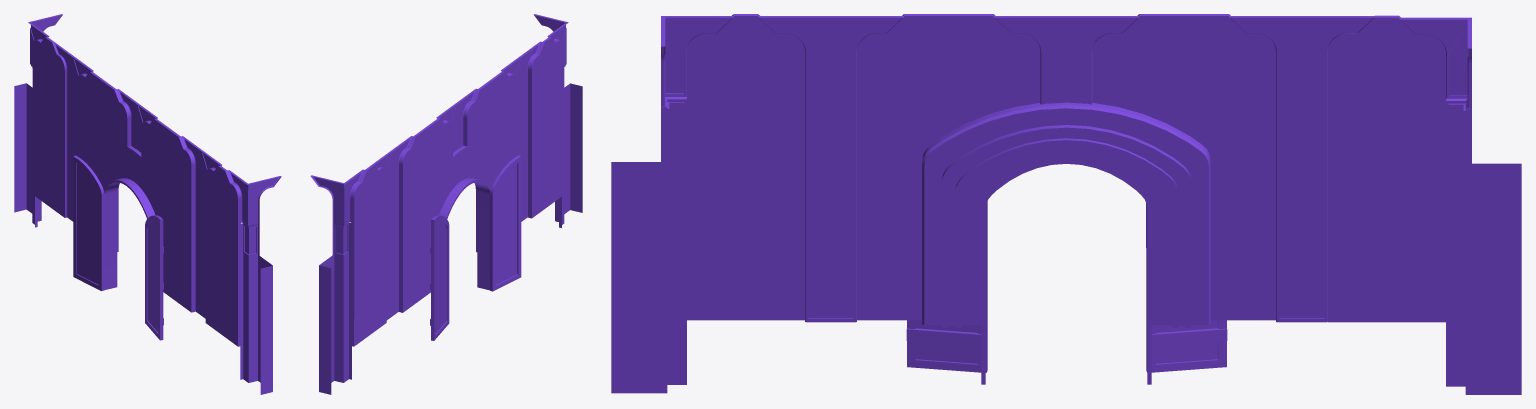
The model's file is FBX_Transition.fbx.
3 views of the same model, side by side, from view 1: azimuth 30°, elevation 25°; view 2: azimuth 150°, elevation 25°; view 3: azimuth 270°, elevation 25° (orthographic). The views are drawn at different scales.
Visible parts, largest first — view 1: SM_Cour_Atlas_2_14, SM_Cour_Atlas_2_13, SM_Cour_Atlas_2_07, SM_Cour_Atlas_2_11, SM_Cour_Atlas_2_08, SM_Cour_Atlas_2_02, SM_Cour_Atlas_2_05, SM_Cour_Atlas_2_09, SM_Cour_Atlas_2_12, SM_Cour_Atlas_2_10, SM_Cour_Atlas_2_06, SM_Cour_Atlas_2_03 (+1 smaller); view 2: SM_Cour_Atlas_2_09, SM_Cour_Atlas_2_13, SM_Cour_Atlas_2_07, SM_Cour_Atlas_2_05, SM_Cour_Atlas_2_10, SM_Cour_Atlas_2_02, SM_Cour_Atlas_2_11, SM_Cour_Atlas_2_14, SM_Cour_Atlas_2_06, SM_Cour_Atlas_2_08, SM_Cour_Atlas_2_12, SM_Cour_Atlas_2_03 (+1 smaller); view 3: SM_Cour_Atlas_2_02, SM_Cour_Atlas_2_07, SM_Cour_Atlas_2_13, SM_Cour_Atlas_2_05, SM_Cour_Atlas_2_11, SM_Cour_Atlas_2_09, SM_Cour_Atlas_2_14, SM_Cour_Atlas_2_06, SM_Cour_Atlas_2_12, SM_Cour_Atlas_2_04, SM_Cour_Atlas_2_10, SM_Cour_Atlas_2_08 (+1 smaller).
Part boxes in pixels (x1,y1,x2,y2): SM_Cour_Atlas_2_14: [227, 170, 281, 394]; SM_Cour_Atlas_2_13: [205, 165, 240, 346]; SM_Cour_Atlas_2_07: [32, 37, 66, 217]; SM_Cour_Atlas_2_11: [141, 118, 193, 312]; SM_Cour_Atlas_2_08: [73, 155, 104, 291]; SM_Cour_Atlas_2_02: [94, 142, 173, 299]; SM_Cour_Atlas_2_05: [77, 71, 129, 172]; SM_Cour_Atlas_2_09: [14, 14, 62, 227]; SM_Cour_Atlas_2_12: [181, 136, 221, 318]; SM_Cour_Atlas_2_10: [145, 215, 163, 340]; SM_Cour_Atlas_2_06: [53, 42, 93, 221]; SM_Cour_Atlas_2_03: [103, 178, 155, 290]; SM_Cour_Atlas_2_09: [310, 169, 364, 394]; SM_Cour_Atlas_2_13: [529, 37, 564, 218]; SM_Cour_Atlas_2_07: [352, 165, 386, 346]; SM_Cour_Atlas_2_05: [400, 118, 452, 312]; SM_Cour_Atlas_2_10: [489, 155, 521, 291]; SM_Cour_Atlas_2_02: [420, 142, 499, 299]; SM_Cour_Atlas_2_11: [465, 71, 517, 172]; SM_Cour_Atlas_2_14: [533, 14, 582, 227]; SM_Cour_Atlas_2_06: [372, 136, 413, 320]; SM_Cour_Atlas_2_08: [430, 215, 449, 340]; SM_Cour_Atlas_2_12: [501, 41, 542, 221]; SM_Cour_Atlas_2_03: [439, 178, 490, 290]; SM_Cour_Atlas_2_02: [922, 102, 1210, 327]; SM_Cour_Atlas_2_07: [1328, 15, 1446, 322]; SM_Cour_Atlas_2_13: [686, 14, 804, 320]; SM_Cour_Atlas_2_05: [1092, 14, 1275, 320]; SM_Cour_Atlas_2_11: [857, 14, 1040, 320]; SM_Cour_Atlas_2_09: [1399, 17, 1521, 394]; SM_Cour_Atlas_2_14: [611, 16, 733, 393]; SM_Cour_Atlas_2_06: [1229, 16, 1374, 322]; SM_Cour_Atlas_2_12: [758, 16, 903, 322]; SM_Cour_Atlas_2_04: [993, 16, 1139, 104]; SM_Cour_Atlas_2_10: [906, 201, 987, 372]; SM_Cour_Atlas_2_08: [1146, 203, 1227, 372].
Size of the model in its own units: 207 by 705 by 1588.
